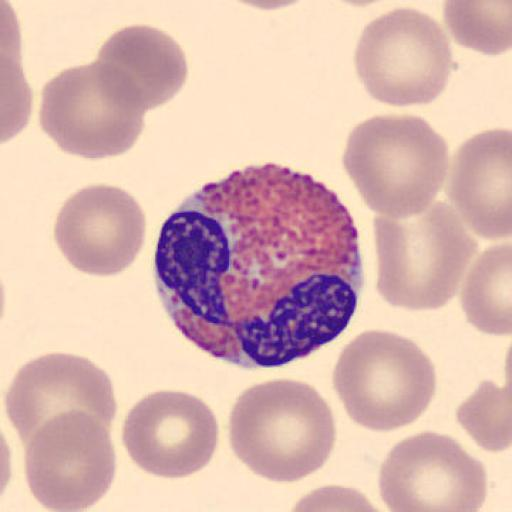RBC: (226, 375, 337, 485), (4, 349, 118, 456), (341, 112, 450, 221), (372, 200, 477, 312), (331, 326, 438, 434), (38, 59, 147, 162), (352, 5, 454, 109), (21, 407, 117, 512), (53, 181, 148, 279), (120, 388, 220, 481), (377, 429, 489, 512), (93, 22, 189, 112), (448, 126, 512, 240), (459, 240, 512, 337), (0, 1, 33, 146), (455, 376, 512, 453), (442, 0, 512, 58), (1, 42, 33, 146), (286, 482, 388, 512), (1, 0, 22, 82), (0, 412, 13, 512), (217, 0, 315, 11), (317, 0, 400, 8)
WBC: (150, 163, 366, 370)
